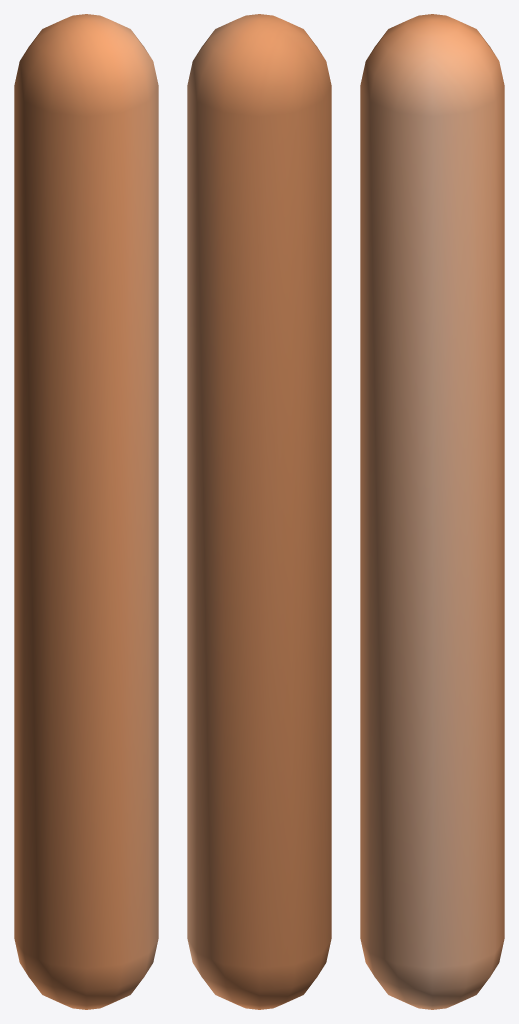
The model's file is Baguette01.fbx.
3 views of the same model, side by side, from view 1: azimuth 30°, elevation 25°; view 2: azimuth 150°, elevation 25°; view 3: azimuth 270°, elevation 25° (orthographic).
Visible parts, largest first — view 1: Baguette.001; view 2: Baguette.001; view 3: Baguette.001.
Boxes of the visible parts, box(x1,y1,x2,y2) form: Baguette.001: box(14, 14, 158, 1009); Baguette.001: box(187, 14, 331, 1009); Baguette.001: box(360, 14, 504, 1009).
Bounding box in the file's own units: 3.96 × 29.7 × 3.96.
